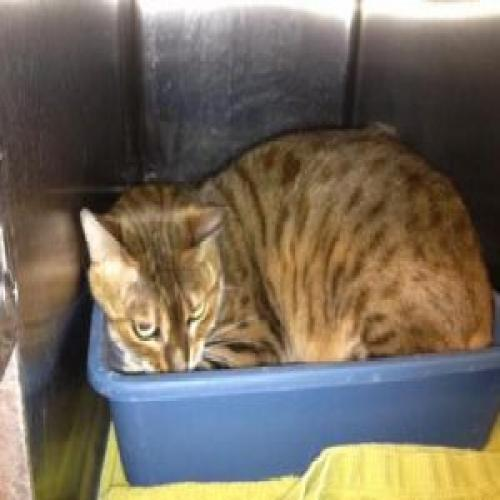cat-face: (70, 178, 234, 382)
